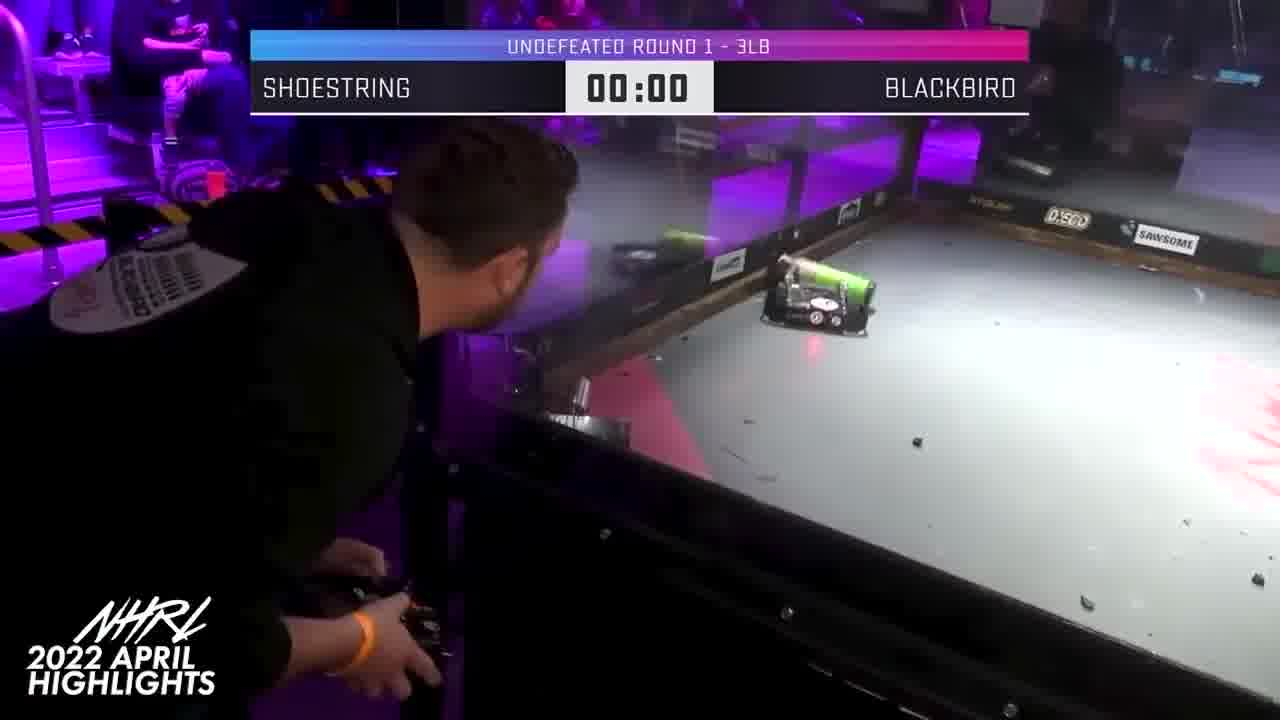combatbot: (767, 254, 880, 335)
